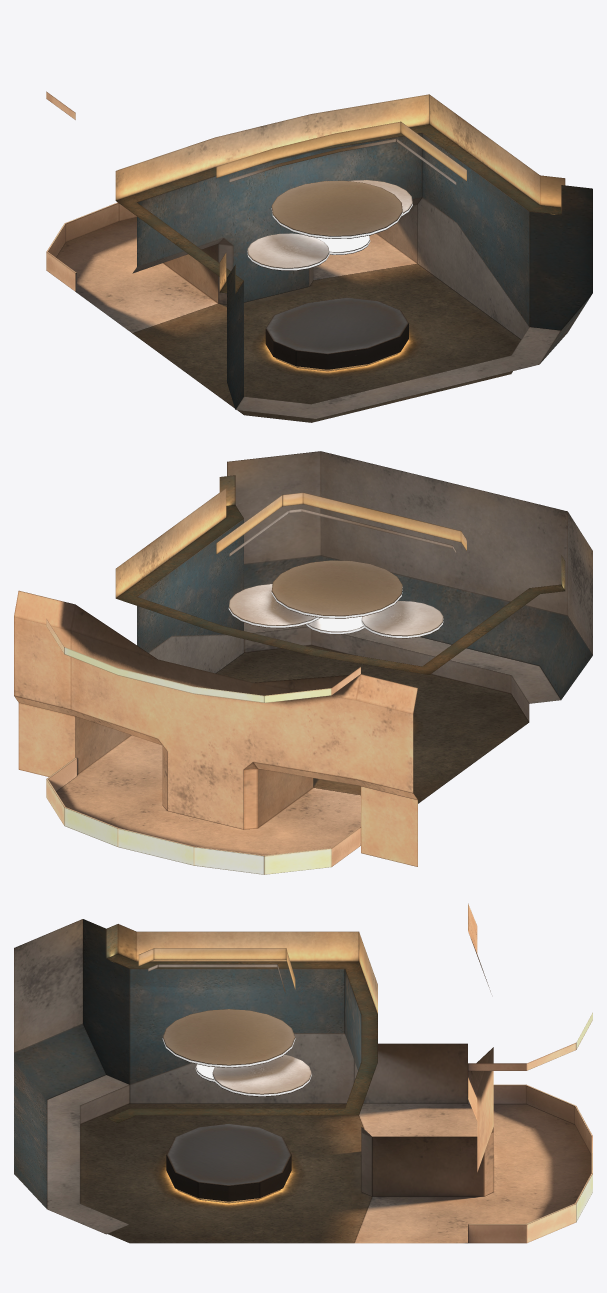
Rendered from MeetingSpace1_mesh.glb.
3 views of the same model, one above another, from view 1: azimuth 30°, elevation 25°; view 2: azimuth 150°, elevation 25°; view 3: azimuth 270°, elevation 25° (orthographic).
Parts seen in each view (by area): view 1: MeetingSpace1_mesh; view 2: MeetingSpace1_mesh; view 3: MeetingSpace1_mesh.
Part boxes in pixels (<box>): MeetingSpace1_mesh: <box>46,91,592,422</box>; MeetingSpace1_mesh: <box>14,451,592,874</box>; MeetingSpace1_mesh: <box>14,903,592,1243</box>.
Size of the model in its own units: 21 by 9.37 by 26.25.
1 material, 1 textured.
